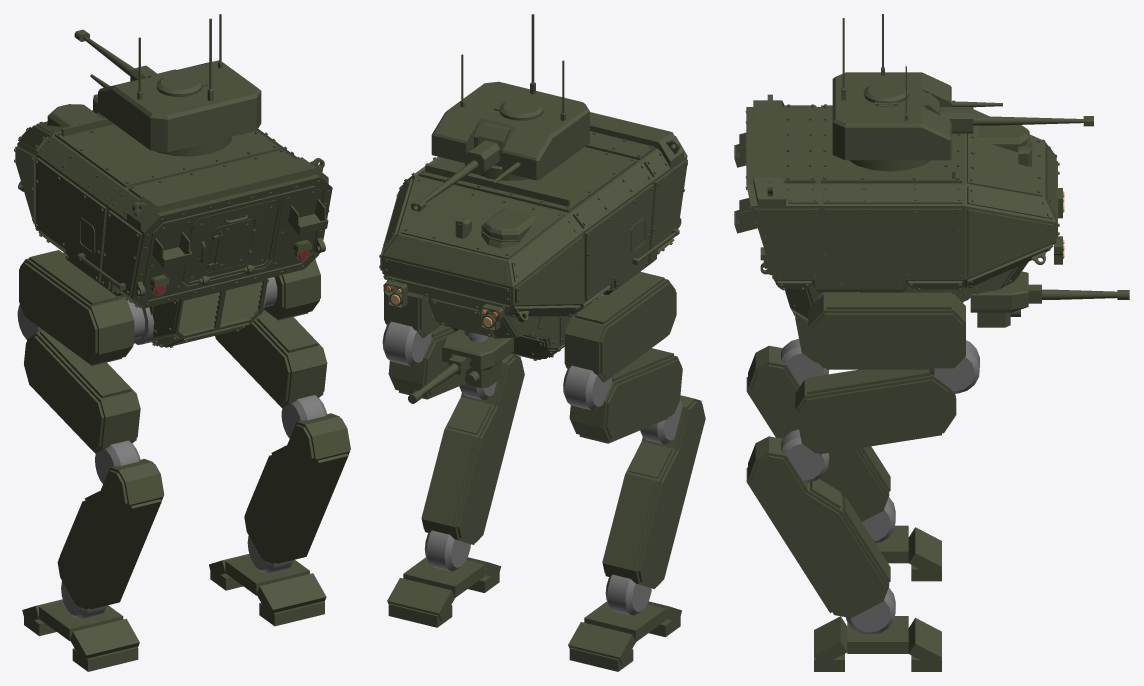
The model's file is StrkyerMech2MeshAnimated.fbx.
The picture shows the model from 3 angles, left to right: view 1: azimuth 30°, elevation 25°; view 2: azimuth 150°, elevation 25°; view 3: azimuth 270°, elevation 25°; orthographic projection. The views are drawn at different scales.
Parts seen in each view (by area): view 1: Hull, TarsusMesh, Tibia, Turret, Femur, RearHatch, Cube.011, Foot, AnkleJoint, RearDoor, Cube.013, FootJoint (+4 smaller); view 2: Hull, TarsusMesh, Turret, Femur, Tibia, Cube.010, Foot, KneeJoint, FootJoint, NoseCannon, TurretBarrelPivot, Cube.012 (+4 smaller); view 3: Hull, TarsusMesh, Femur, Tibia, Turret, Foot, Cube.010, AnkleJoint, NoseCannon, FootJoint, TurretBarrelPivot, KneeJoint (+3 smaller).
Part boxes in pixels (box(x1,y1,x2,y2)): Hull: box(14, 94, 332, 347); TarsusMesh: box(57, 413, 350, 609); Tibia: box(24, 310, 327, 454); Turret: box(90, 14, 261, 156); Femur: box(19, 250, 320, 365); RearHatch: box(182, 199, 281, 285); Cube.011: box(70, 573, 326, 663); Foot: box(39, 555, 309, 640); AnkleJoint: box(95, 395, 326, 483); RearDoor: box(207, 218, 255, 272); Cube.013: box(72, 601, 324, 671); FootJoint: box(61, 536, 293, 619); Hull: box(379, 112, 687, 360); TarsusMesh: box(421, 354, 705, 588); Turret: box(431, 14, 589, 184); Femur: box(384, 271, 676, 382); Tibia: box(388, 325, 682, 443); Cube.010: box(387, 578, 635, 665); Foot: box(403, 557, 665, 641); KneeJoint: box(382, 321, 611, 410); FootJoint: box(424, 530, 651, 615); NoseCannon: box(442, 329, 513, 388); TurretBarrelPivot: box(411, 122, 511, 211); Cube.012: box(388, 603, 633, 671); Hull: box(734, 94, 1064, 323); TarsusMesh: box(746, 345, 890, 617); Femur: box(808, 292, 965, 369); Tibia: box(795, 316, 956, 454); Turret: box(832, 14, 1002, 171); Foot: box(847, 525, 908, 653); Cube.010: box(908, 527, 941, 667); AnkleJoint: box(781, 338, 829, 482); NoseCannon: box(970, 271, 1028, 327); FootJoint: box(846, 497, 895, 634); TurretBarrelPivot: box(923, 93, 1093, 133); KneeJoint: box(929, 295, 979, 393).
Bounding box in the file's own units: 4.43 × 10.74 × 6.35.
